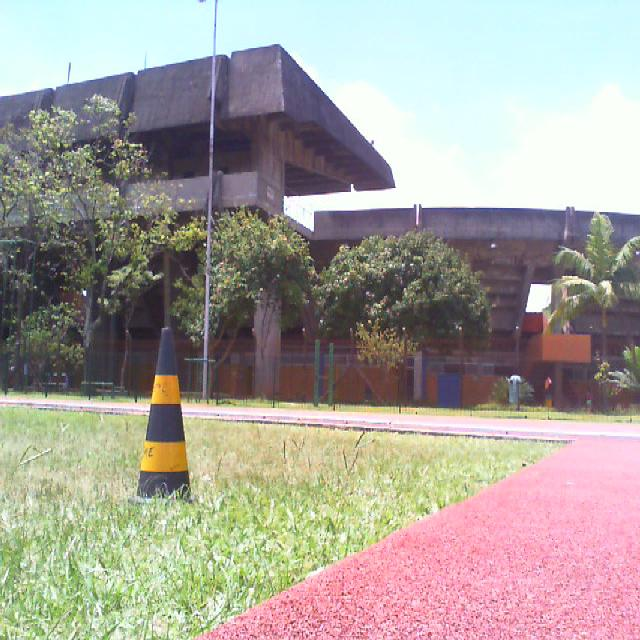cone: (120, 328, 197, 507)
